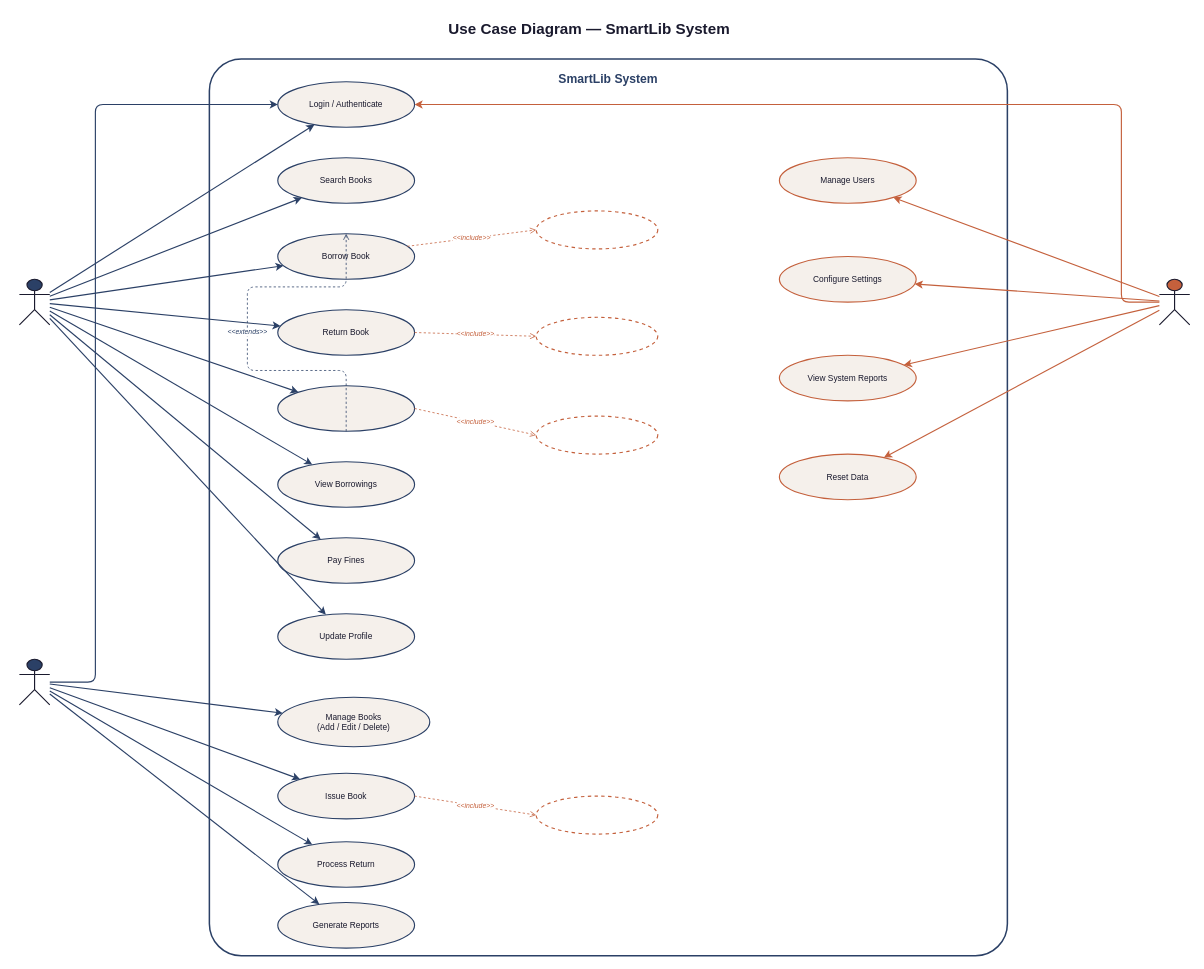
Some shapes in this 1204 by 969 pixel diagram are drawn without their labels. Each missing label, with the centre of its shape:
Admin: (1174,301)
Calculate Fine: (596,336)
Check Availability: (596,229)
Librarian: (34,681)
Reserve Book: (346,408)
Send Notification: (596,434)
Student: (34,301)
Update Inventory: (596,814)
